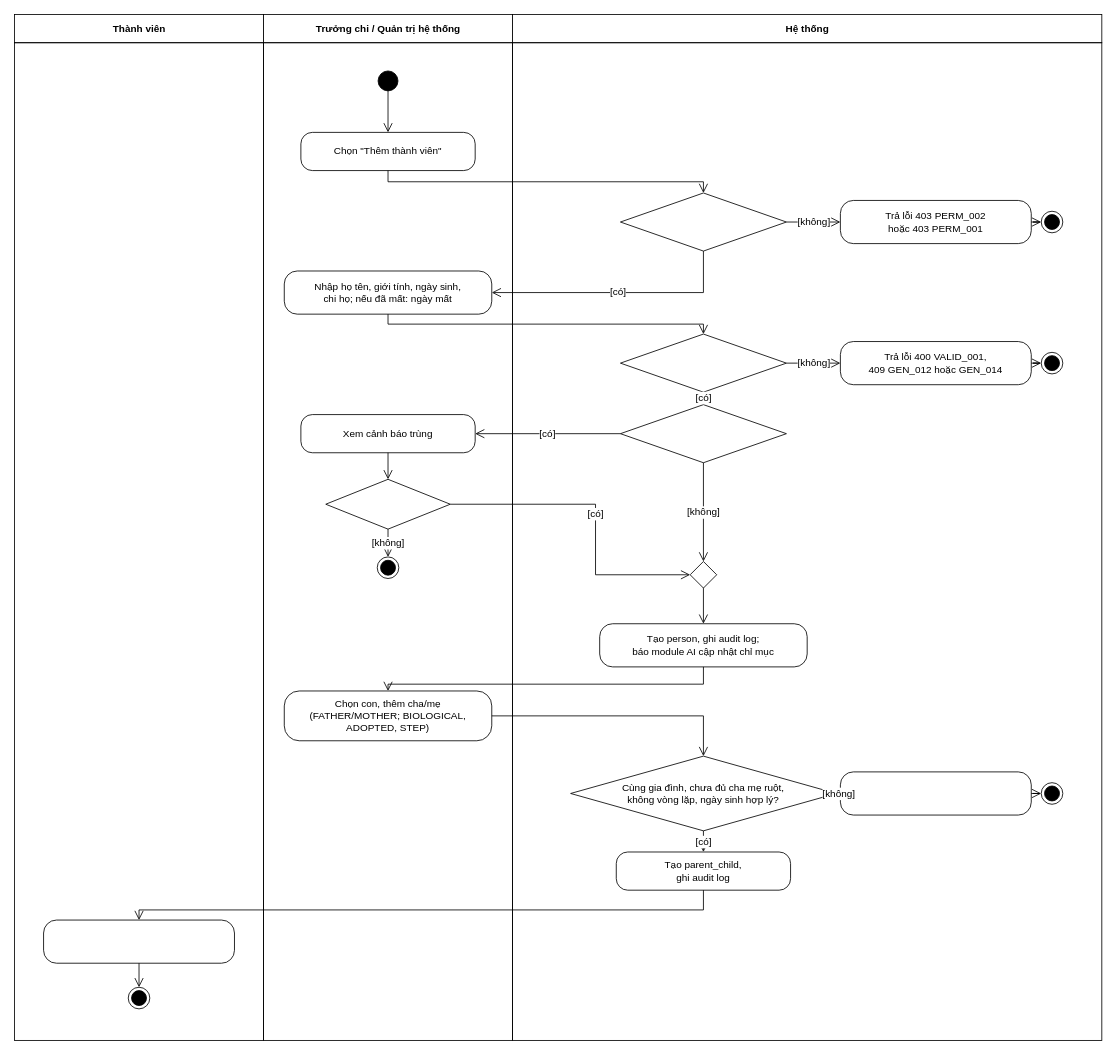
Image size: 1116x1055. Some labels were removed from this diagram. Here are the shapes that lost their labels. From the top down, the centre of each, then its label:
At [703,221]: "Có quyền trong phạm vi gia đình, chi?".
At [703,362]: "Dữ liệu hợp lệ? (BR-GEN-08, 16, 17)".
At [703,433]: "Trùng họ tên và ngày sinh người đã có?".
At [387,503]: "Tiếp tục tạo?".
At [935,793]: "Trả lỗi 409 GEN_005, GEN_006, GEN_007 hoặc GEN_008".
At [138,941]: "Xem cây gia phả đã cập nhật (UC-GEN-06)".
